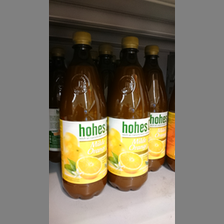juice: (59, 31, 107, 199), (108, 36, 148, 192)
